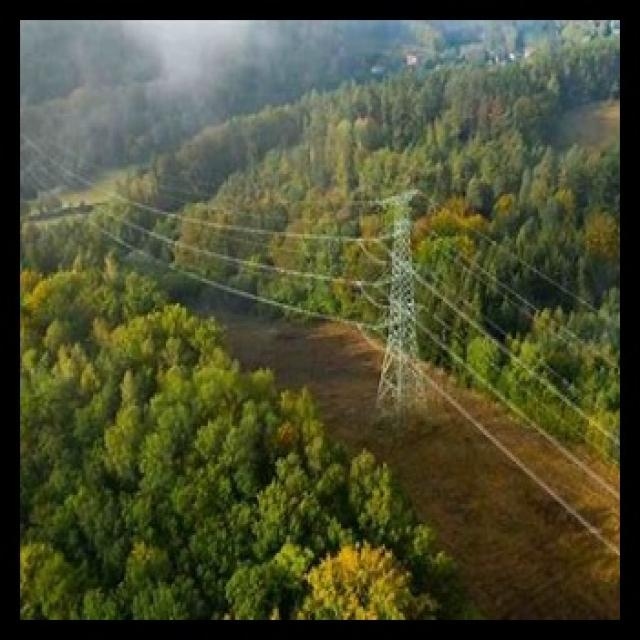utility poles: (322, 134, 476, 488)
